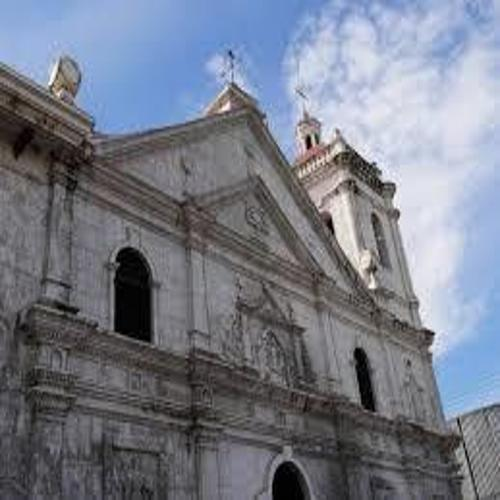Sto. Nino Basilica Church: (68, 50, 466, 500)
